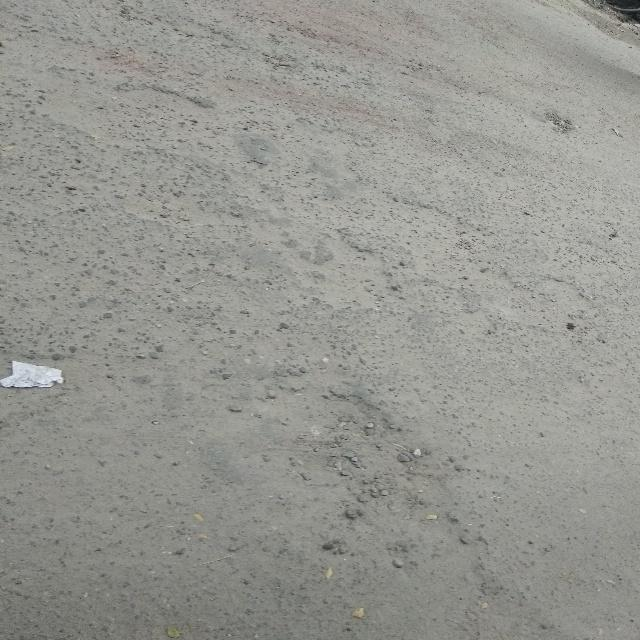Surface Erosion: (6, 10, 636, 640)
